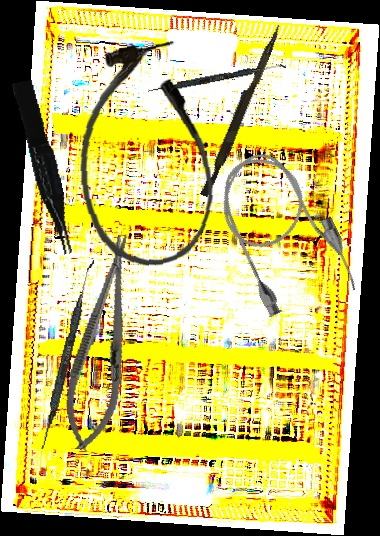Cannula: (70, 37, 220, 272), (202, 136, 365, 329)
Needle Holder: (55, 230, 151, 456)
Pusher: (200, 21, 282, 200)
Spatula Surgical: (39, 257, 95, 452), (147, 59, 287, 97)
Tissue Forceps: (11, 78, 77, 258)
